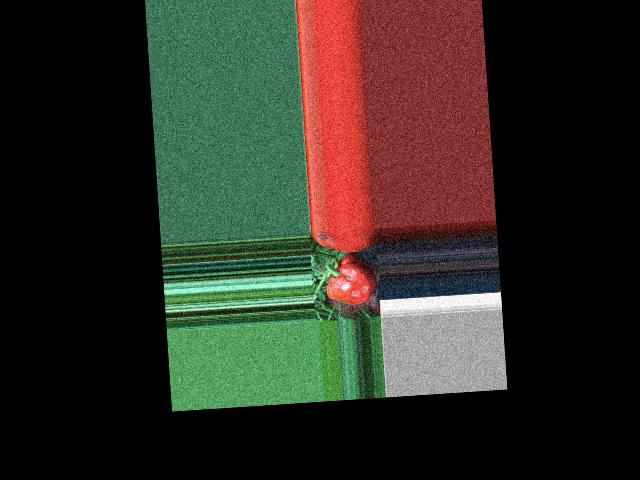bell_pepper: (319, 253, 381, 305)
